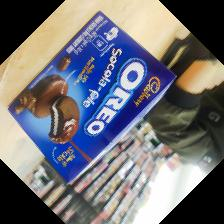Oreo: (6, 10, 177, 188)
